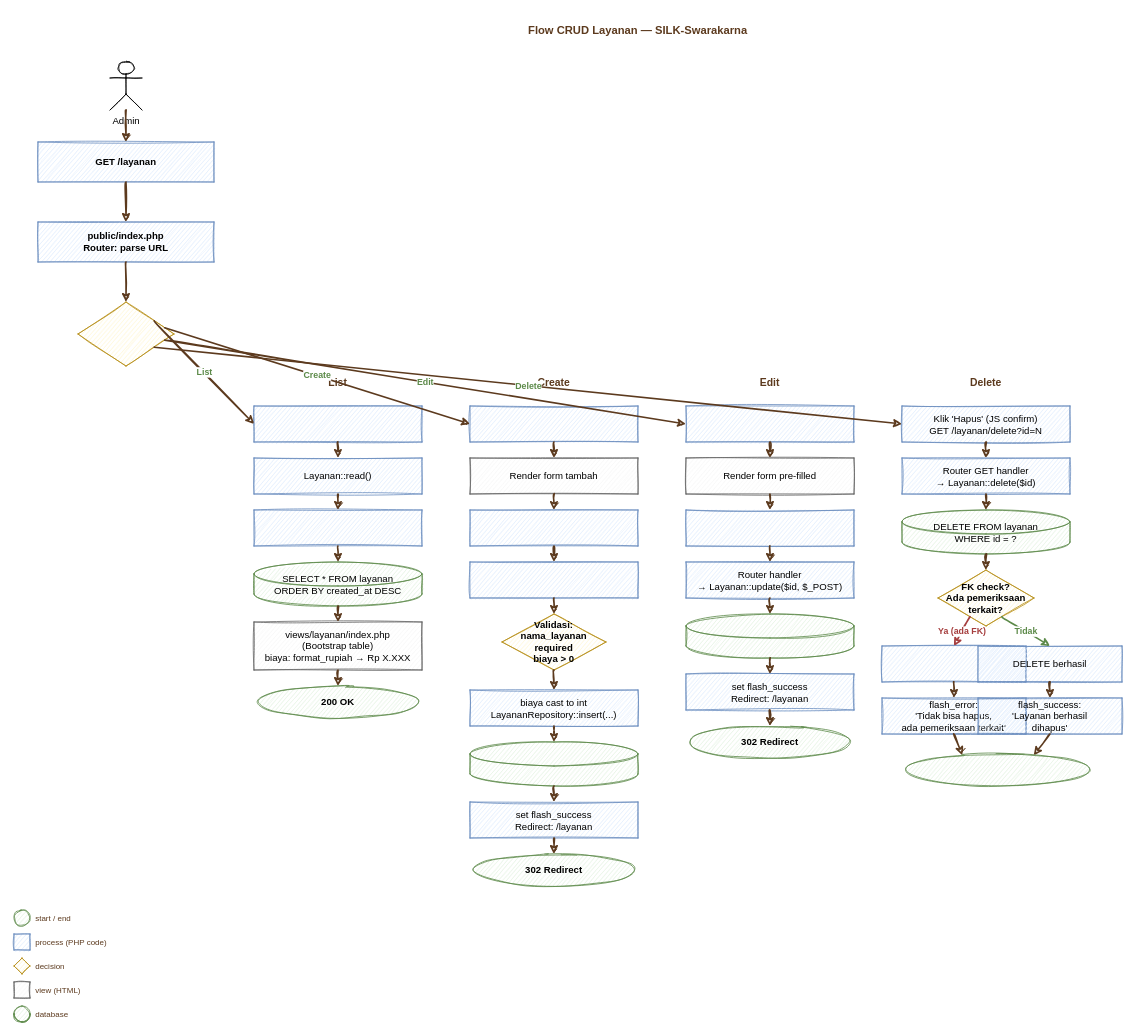
The diagram is 1136 pixels wide and 1036 high, and some of its shapes have lost their labels. Each missing label, with the centre of its shape:
"Action: List / Create / Edit / Delete" belongs at [125,333].
"INSERT INTO layanan (nama_layanan, biaya) VALUES (?, ?) → returns int" belongs at [553,763].
"Klik 'Edit' GET /layanan/edit?id=N" belongs at [769,423].
"Klik 'Tambah Layanan' GET /layanan/create" belongs at [553,423].
"LayananPresenter::getListData()" belongs at [337,423].
"LayananRepository::findAll()" belongs at [337,527].
"PDOException 23000 → return false" belongs at [953,663].
"Redirect: /layanan (302)" belongs at [997,769].
"Router handler → Layanan::create($_POST)" belongs at [553,579].
"Submit form POST /layanan" belongs at [553,527].
"Submit form POST /layanan/update" belongs at [769,527].
"UPDATE layanan SET ... WHERE id = ?" belongs at [769,635].
